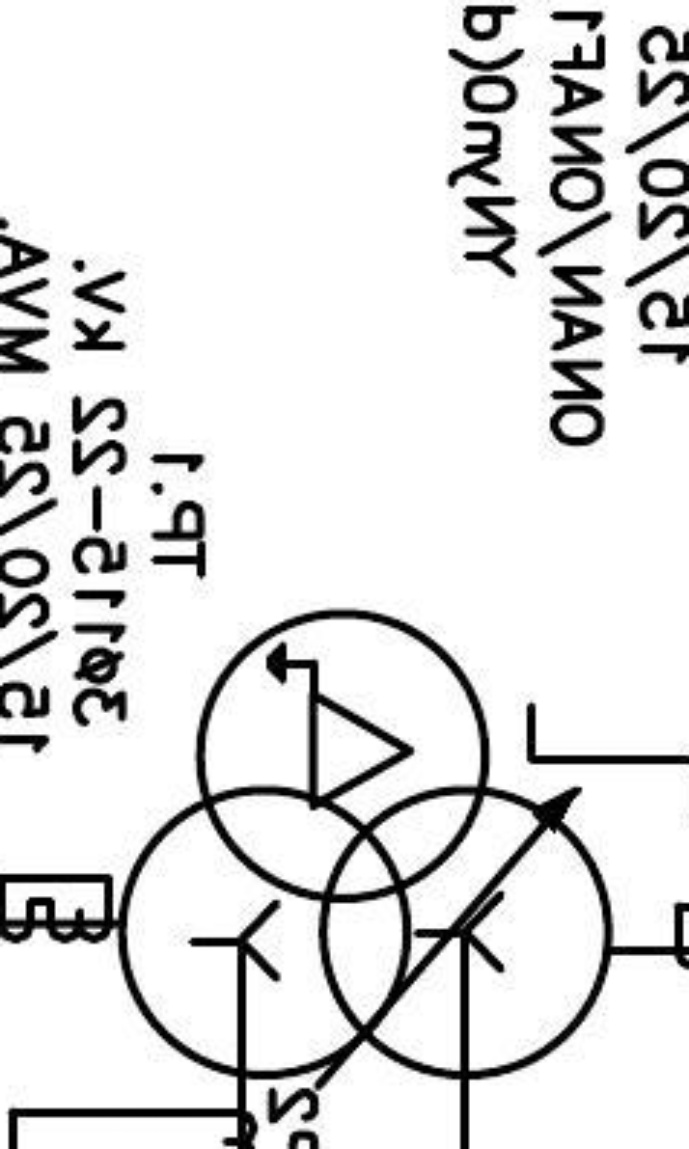11522_tx_ynyn0d1: (114, 605, 616, 1082)
